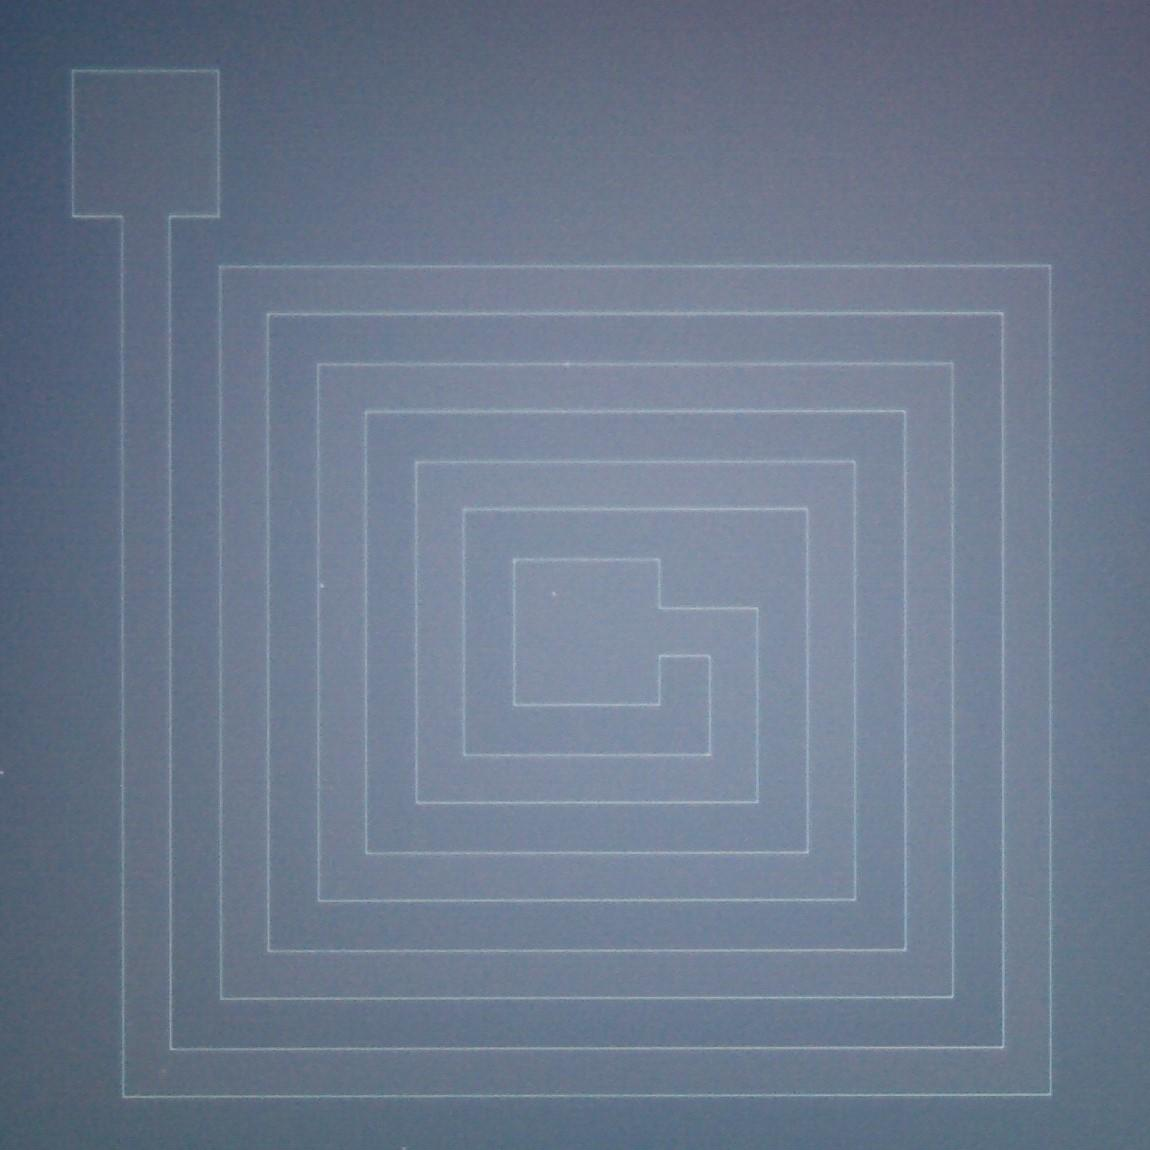s_point: (0, 767, 7, 777), (552, 591, 560, 599), (318, 581, 326, 590)
